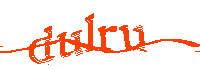d: (29, 26, 54, 65)
l: (84, 13, 96, 52)
r: (98, 24, 117, 54)
u: (120, 24, 146, 53), (57, 31, 84, 58)
